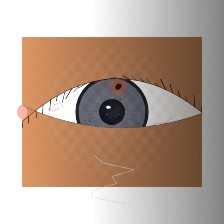foreign_body_visible: (101, 72, 136, 101)
